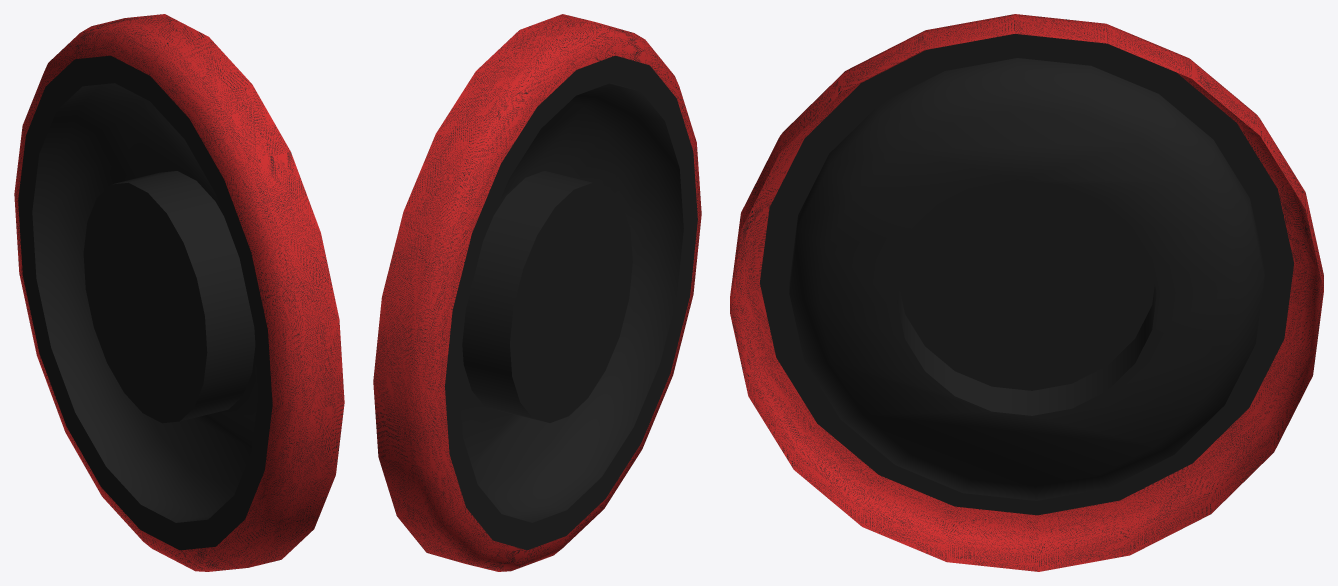
The model's file is original-37.obj.
The picture shows the model from 3 angles, left to right: view 1: azimuth 30°, elevation 25°; view 2: azimuth 150°, elevation 25°; view 3: azimuth 270°, elevation 25°; orthographic projection. The views are drawn at different scales.
Parts seen in each view (by area): view 1: wheel_half1/wheel_half/mesh5/mesh5-geometry#mesh5-geometry; view 2: wheel_half1/wheel_half/mesh5/mesh5-geometry#mesh5-geometry; view 3: wheel_half1/wheel_half/mesh5/mesh5-geometry#mesh5-geometry.
Boxes of the visible parts, x1,y1,x2,y2 form: wheel_half1/wheel_half/mesh5/mesh5-geometry#mesh5-geometry: (14, 14, 344, 571); wheel_half1/wheel_half/mesh5/mesh5-geometry#mesh5-geometry: (373, 14, 701, 571); wheel_half1/wheel_half/mesh5/mesh5-geometry#mesh5-geometry: (730, 14, 1323, 571).
Size of the model in its own units: 0.0137 by 0.1158 by 0.1158.
